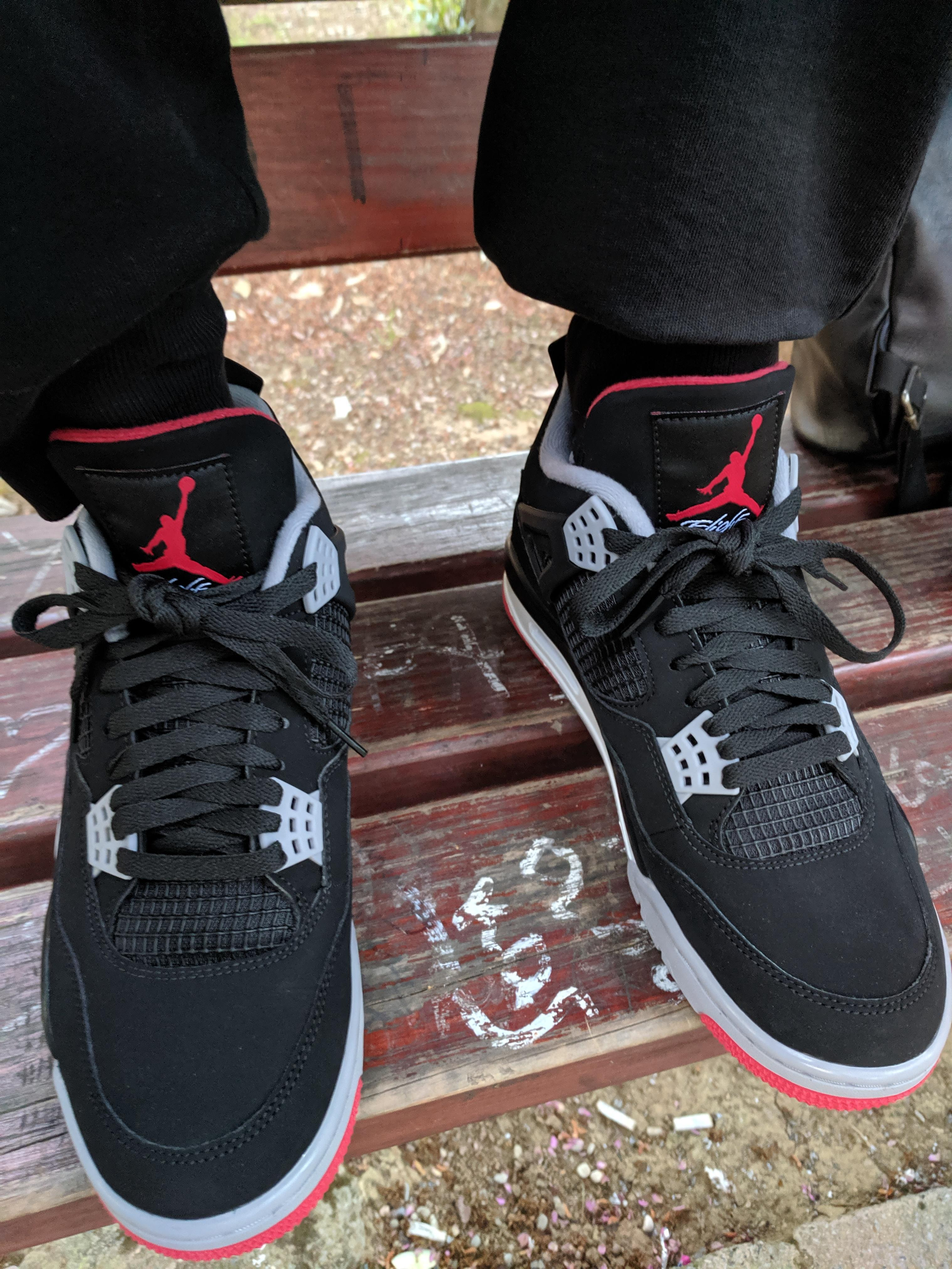sneaker: (491, 362, 952, 1111), (34, 387, 367, 1262)
